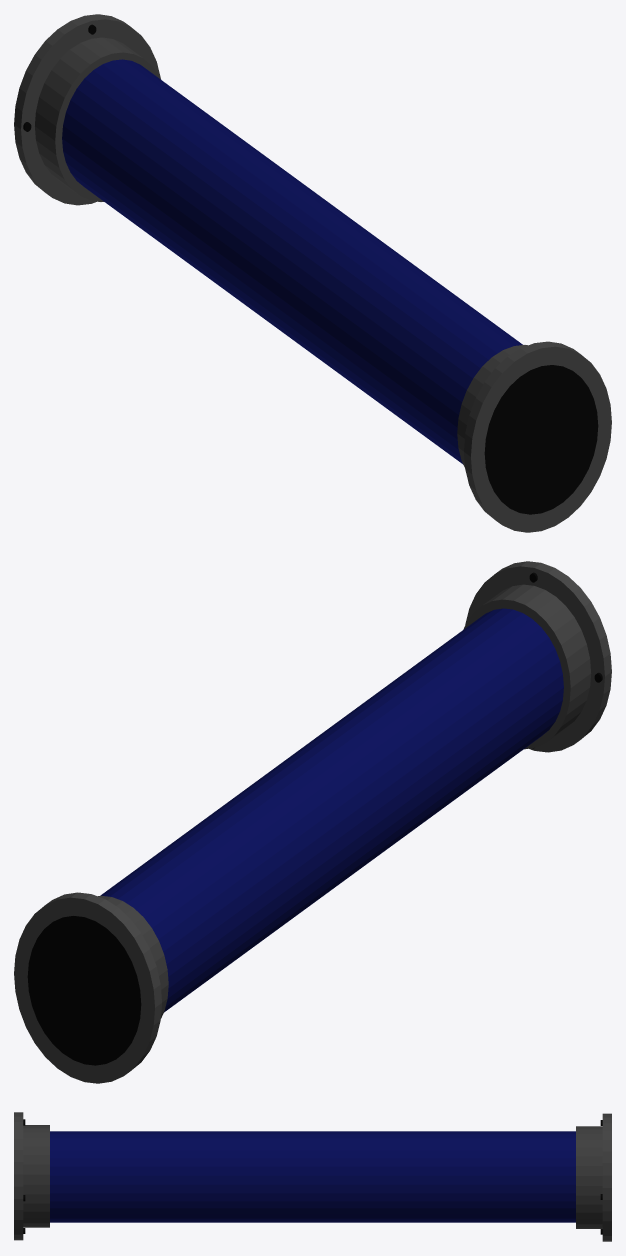
File: mangote.glb
3 views of the same model, one above another, from view 1: azimuth 30°, elevation 25°; view 2: azimuth 150°, elevation 25°; view 3: azimuth 270°, elevation 25° (orthographic). The views are drawn at different scales.
Parts seen in each view (by area): view 1: Cilindro.002; view 2: Cilindro.002; view 3: Cilindro.002.
Part boxes in pixels (bbox=[...]): Cilindro.002: bbox=[14, 14, 611, 532]; Cilindro.002: bbox=[14, 561, 611, 1083]; Cilindro.002: bbox=[14, 1112, 611, 1241].
Bounding box in the file's own units: 2.49 × 3.11 × 13.95.
